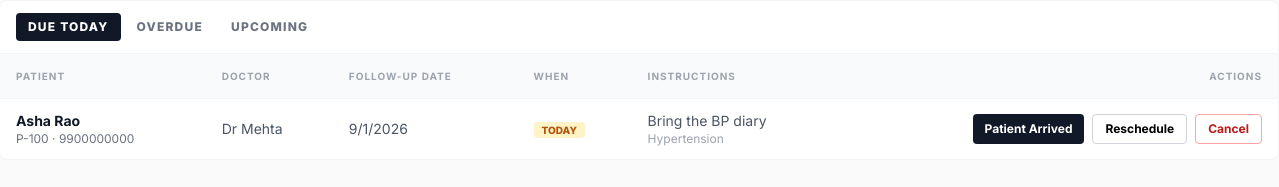
FollowUpPanel › switches to overdue and reports how late each is
Click the tab "Overdue".
click(170, 27)  # box [125,13,215,41]
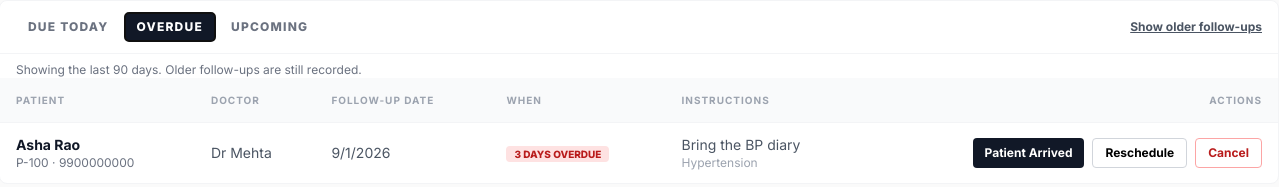
Check: the text "3 days overdue" is shown, box [506,146,609,162]
